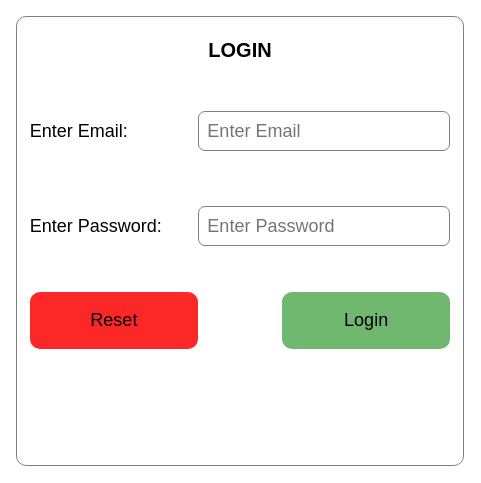
Test: Login Component › should navigate to users page on successful login
The width and height of the screenshot is (481, 483).
Type "test@gmail.com" into the field with placeholder "Enter Email" at (324,131), box [198, 111, 450, 151]
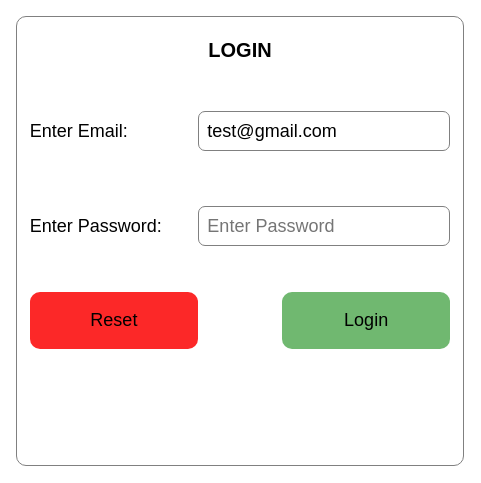
Type "test@1" into the password field with placeholder "Enter Password" at (324,226), box [198, 206, 450, 246]
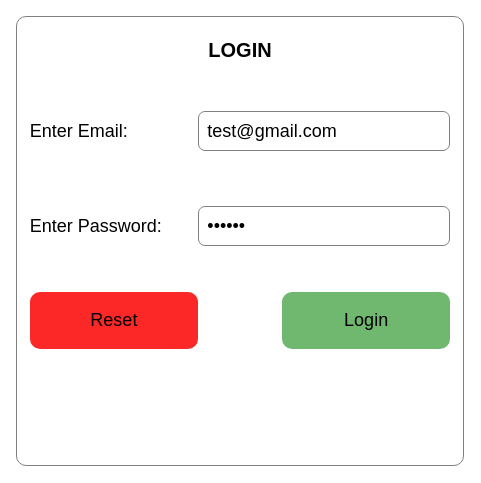
Click the button "Login" at (366,320), box [282, 292, 450, 349]
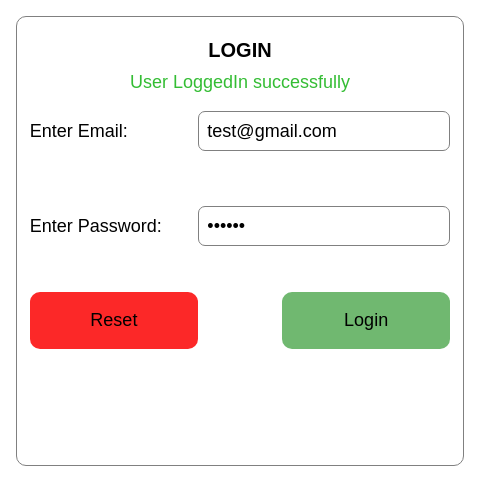
Result: the text "User LoggedIn successfully" is shown at [130, 72, 350, 92]
